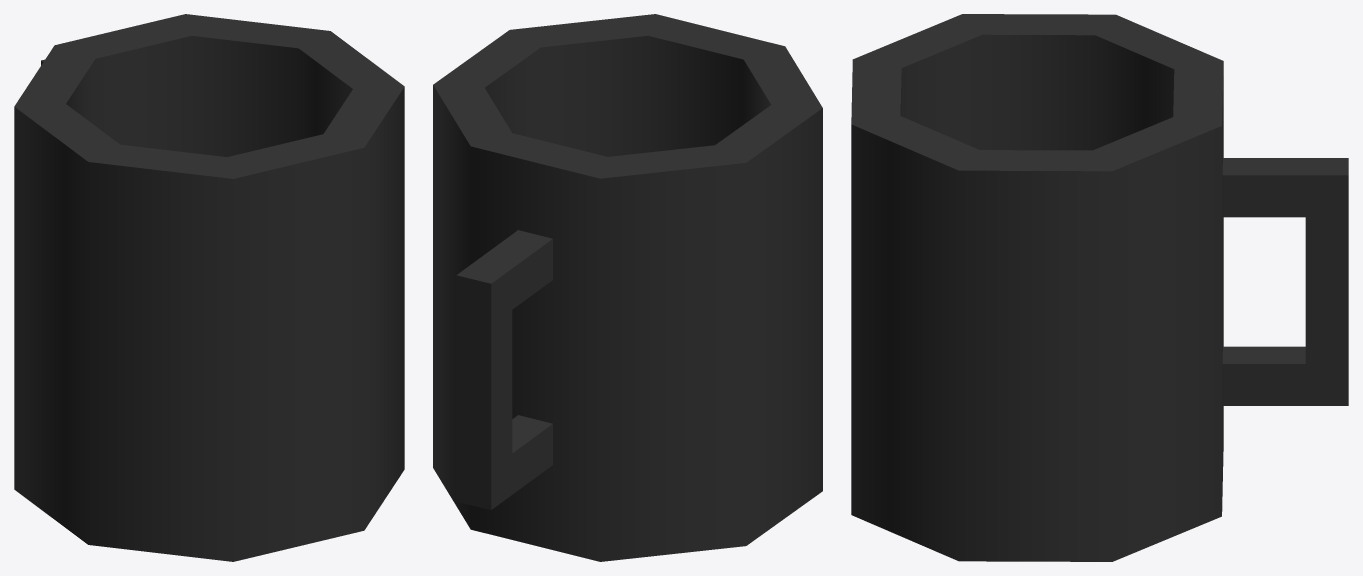
The model's file is cup_black.fbx.
3 views of the same model, side by side, from view 1: azimuth 30°, elevation 25°; view 2: azimuth 150°, elevation 25°; view 3: azimuth 270°, elevation 25° (orthographic). The views are drawn at different scales.
Parts seen in each view (by area): view 1: Cup Small; view 2: Cup Small; view 3: Cup Small.
Part boxes in pixels (box(x1,y1,x2,y2)): Cup Small: box(14, 14, 404, 561); Cup Small: box(433, 14, 822, 561); Cup Small: box(851, 14, 1348, 561).
Bounding box in the file's own units: 17.86 × 13.36 × 15.48.
